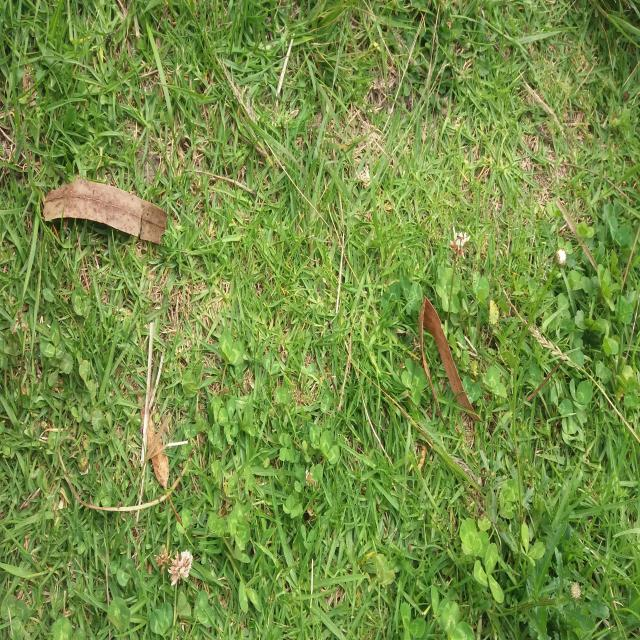Four Leaf Clover: (401, 358, 427, 406), (436, 275, 460, 314), (561, 418, 580, 445), (279, 432, 292, 461)
